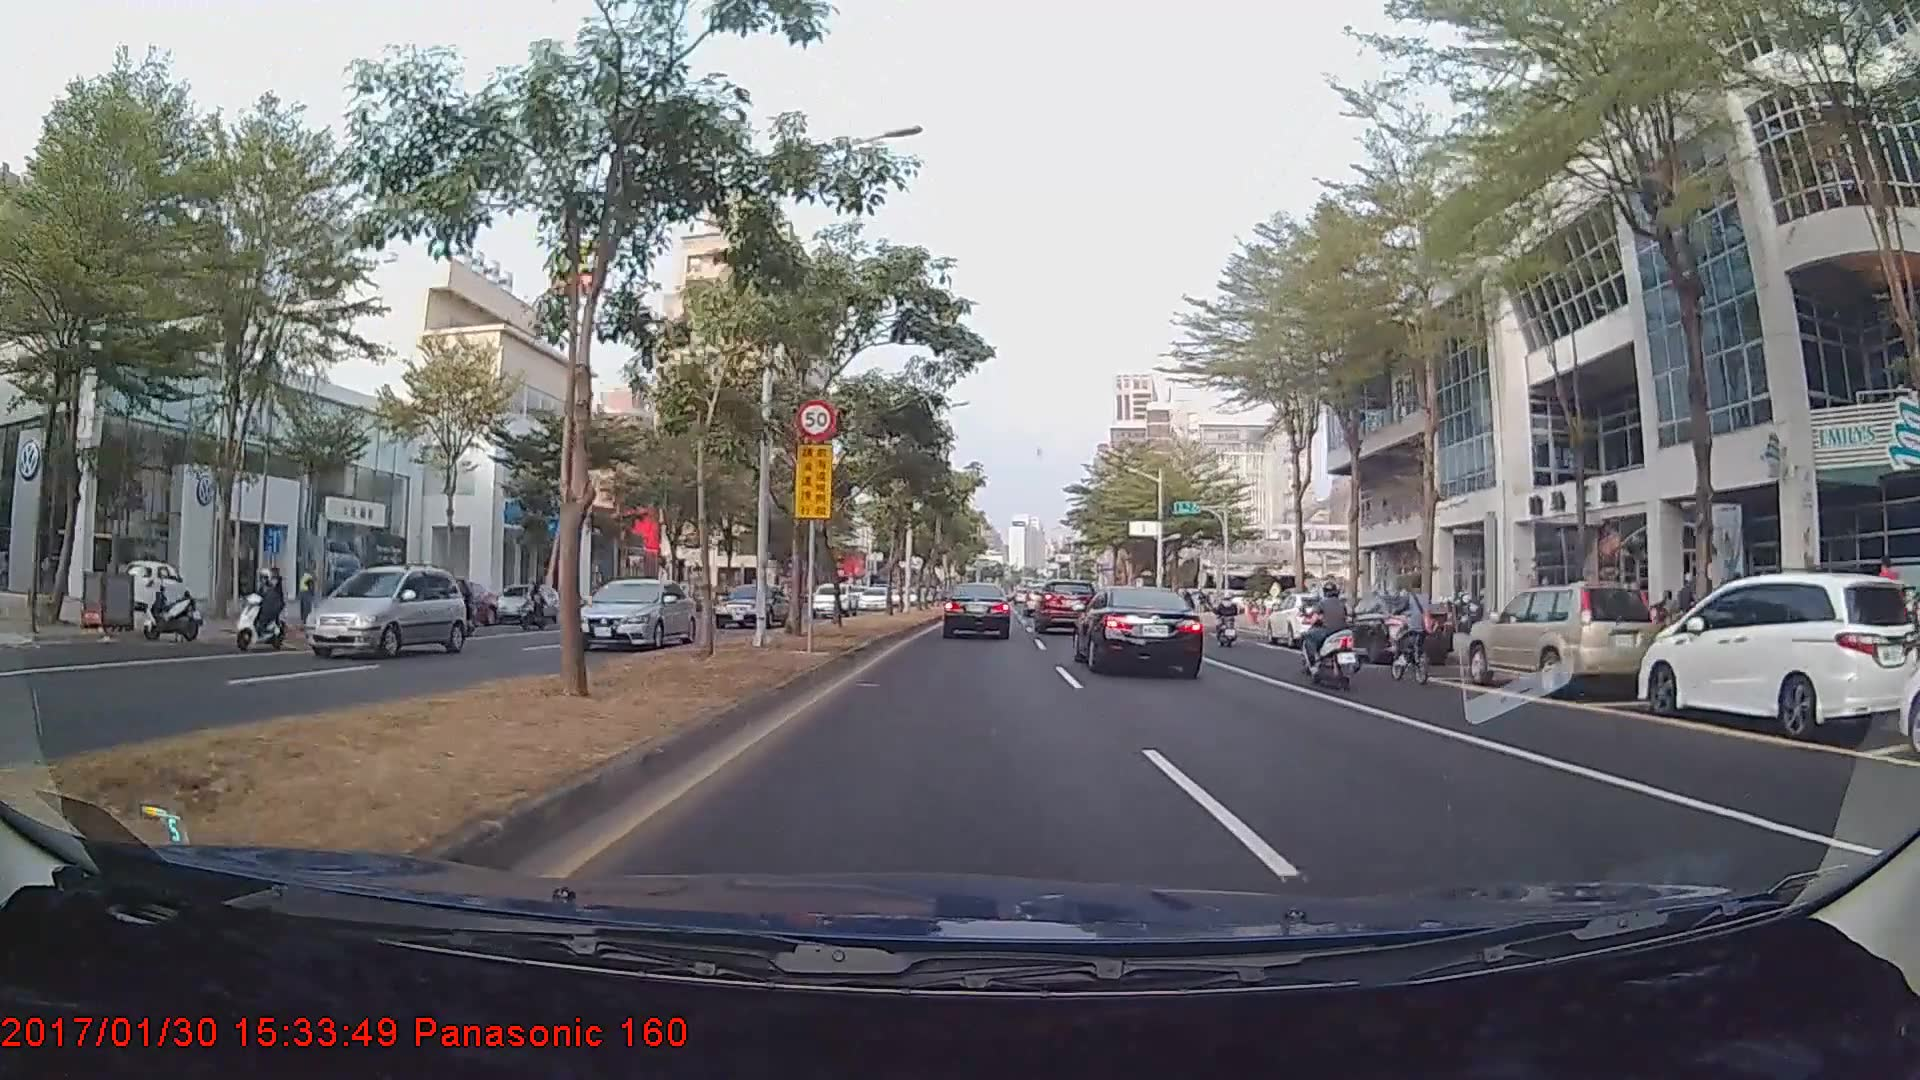rider: (1291, 581, 1368, 695), (1387, 577, 1443, 689), (229, 562, 290, 657), (1309, 589, 1361, 677), (1208, 594, 1244, 650)
vehicle: (1636, 570, 1919, 742), (1467, 585, 1658, 699), (299, 562, 468, 663), (1075, 580, 1206, 679), (577, 580, 697, 655), (1327, 596, 1451, 668), (1264, 590, 1349, 648), (941, 581, 1013, 640), (710, 583, 787, 631), (416, 579, 496, 624), (1033, 580, 1091, 633), (486, 586, 557, 625), (808, 579, 856, 620)
